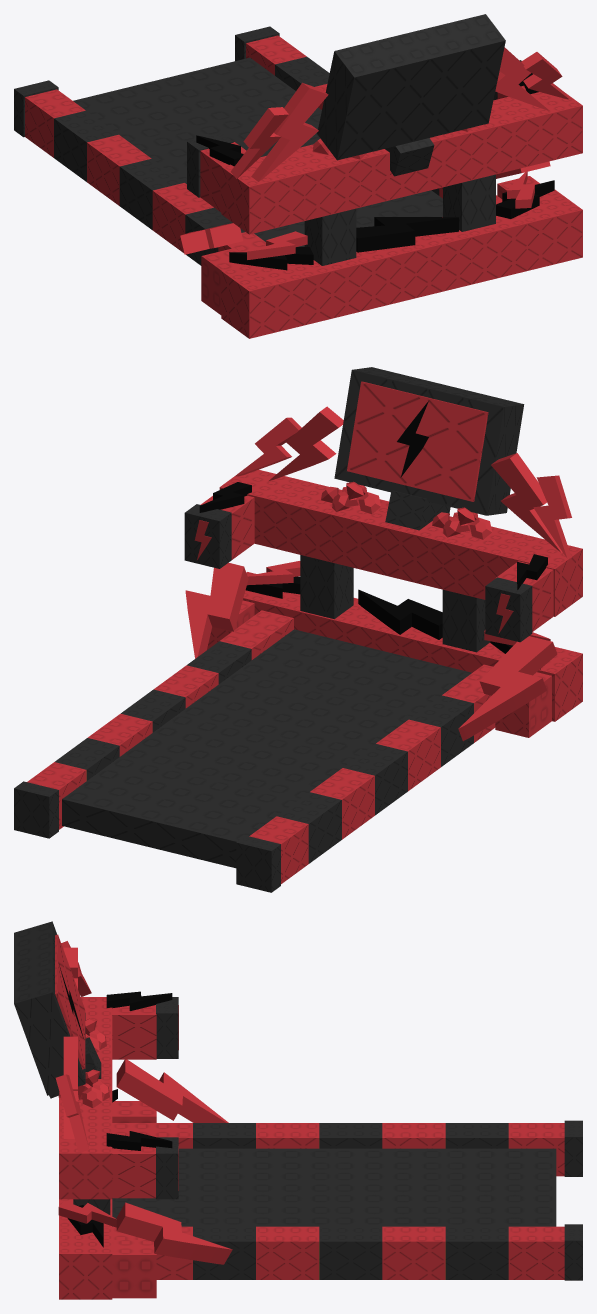
Rendered from TreadmillAdmin.fbx.
3 renders of one model, top to bottom at view 1: azimuth 30°, elevation 25°; view 2: azimuth 150°, elevation 25°; view 3: azimuth 270°, elevation 25°, orthographic. The views are drawn at different scales.
Visible parts, largest first — view 1: TreadmillAdmin; view 2: TreadmillAdmin; view 3: TreadmillAdmin.
Part boxes in pixels (bbox=[...]): TreadmillAdmin: bbox=[14, 14, 582, 338]; TreadmillAdmin: bbox=[14, 367, 582, 892]; TreadmillAdmin: bbox=[14, 921, 582, 1299].
Bounding box in the file's own units: 2950 × 2145 × 4253.
